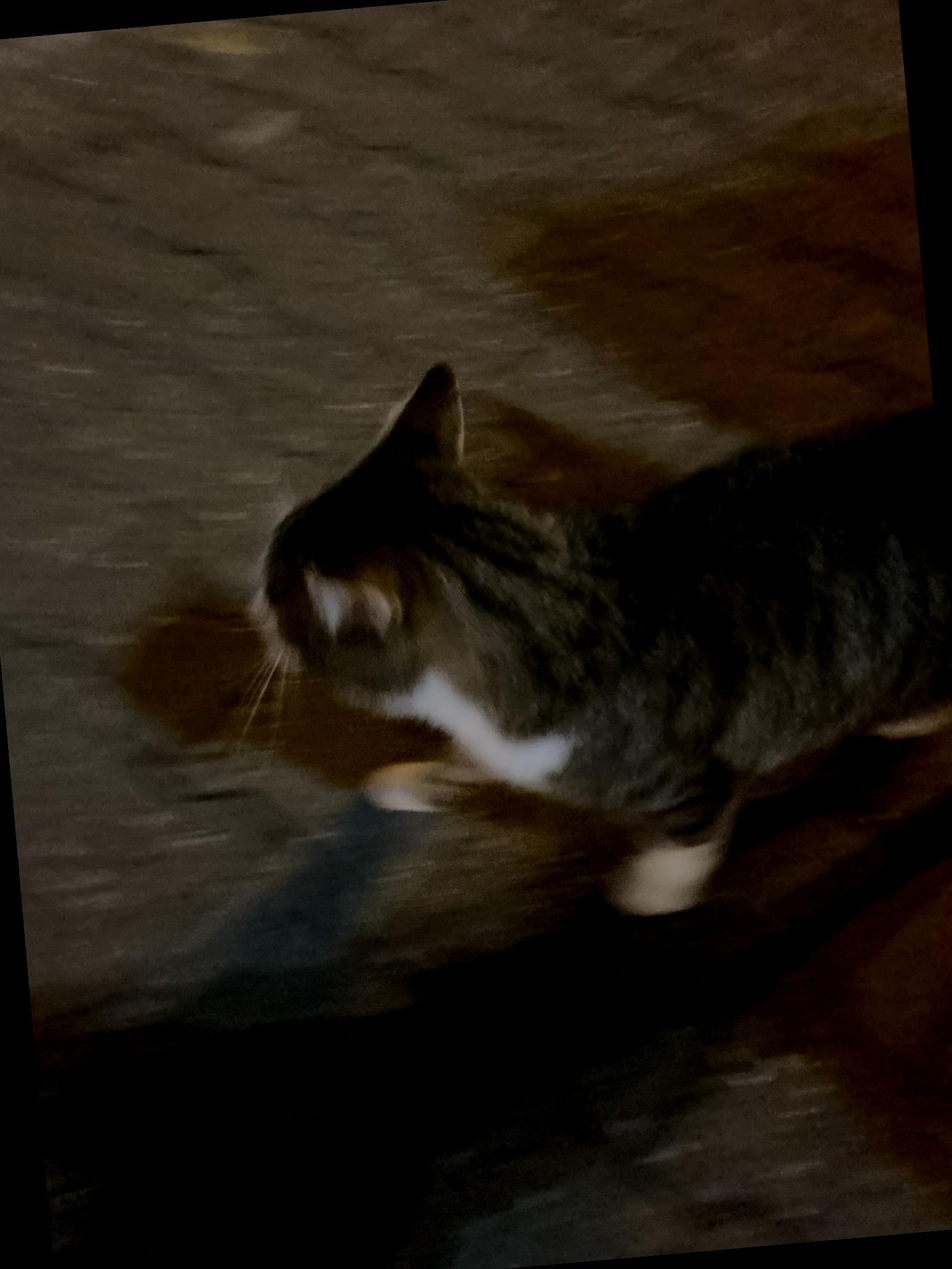macka: (228, 317, 952, 947)
